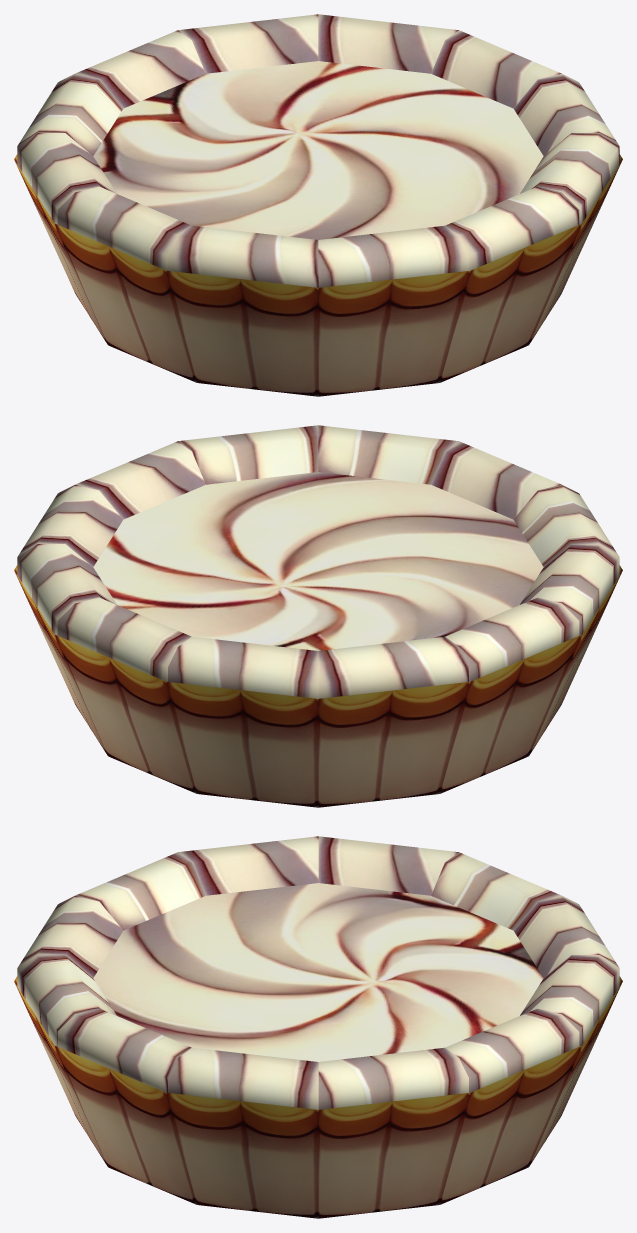
The model's file is pie.glb.
3 views of the same model, one above another, from view 1: azimuth 30°, elevation 25°; view 2: azimuth 150°, elevation 25°; view 3: azimuth 270°, elevation 25° (orthographic).
Parts seen in each view (by area): view 1: Pie; view 2: Pie; view 3: Pie.
Part boxes in pixels (<box>): Pie: <box>14,14,622,396</box>; Pie: <box>14,425,622,807</box>; Pie: <box>14,836,622,1218</box>.
Bounding box in the file's own units: 2.73 × 0.7973 × 2.73.
1 material, 1 textured.
